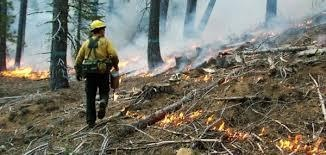fire: (0, 55, 49, 81)
